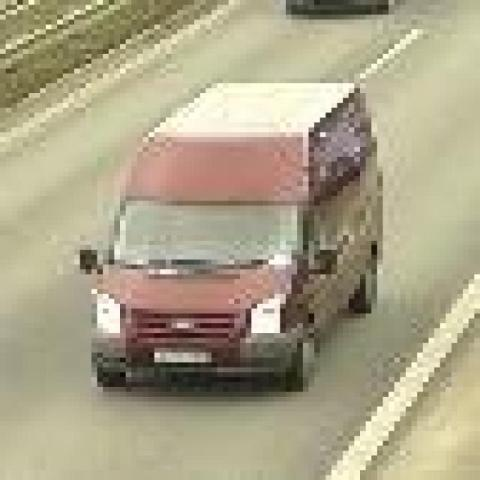van: (88, 81, 380, 390)
